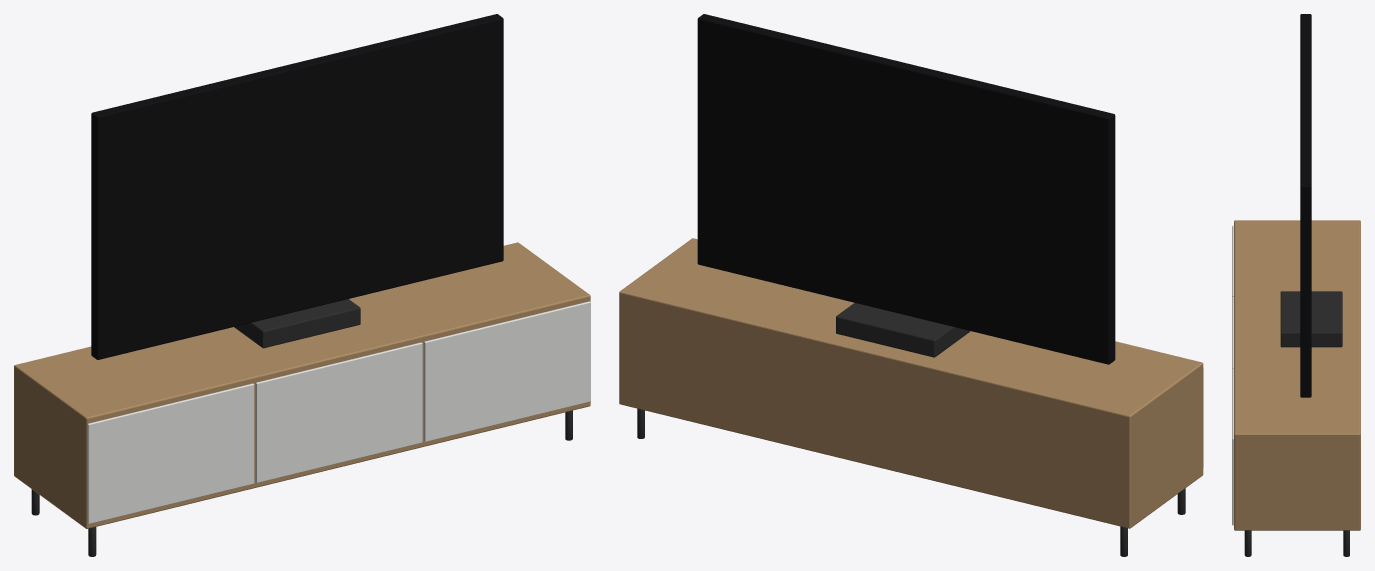
3 renders of one model, left to right at view 1: azimuth 30°, elevation 25°; view 2: azimuth 150°, elevation 25°; view 3: azimuth 270°, elevation 25°, orthographic. The views are drawn at different scales.
Parts seen in each view (by area): view 1: Fernseher, Korpus, Front0, Front1, Front2, Fuß; view 2: Fernseher, Korpus, Fuß; view 3: Korpus, Fernseher, Fuß, Front2, Bein1, Bein3.
Part boxes in pixels (<box>): Fernseher: <box>91,14,503,359</box>; Korpus: <box>14,242,590,528</box>; Front0: <box>87,383,254,523</box>; Front1: <box>255,342,422,482</box>; Front2: <box>424,301,590,441</box>; Fuß: <box>234,299,360,348</box>; Fernseher: <box>697,14,1115,364</box>; Korpus: <box>619,238,1203,528</box>; Fuß: <box>836,303,970,357</box>; Korpus: <box>1234,220,1360,530</box>; Fernseher: <box>1300,14,1311,397</box>; Fuß: <box>1280,291,1342,347</box>; Front2: <box>1232,368,1233,525</box>; Bein1: <box>1244,530,1251,556</box>; Bein3: <box>1343,530,1349,556</box>.
Size of the model in its own units: 1.8 by 1.39 by 0.457.
